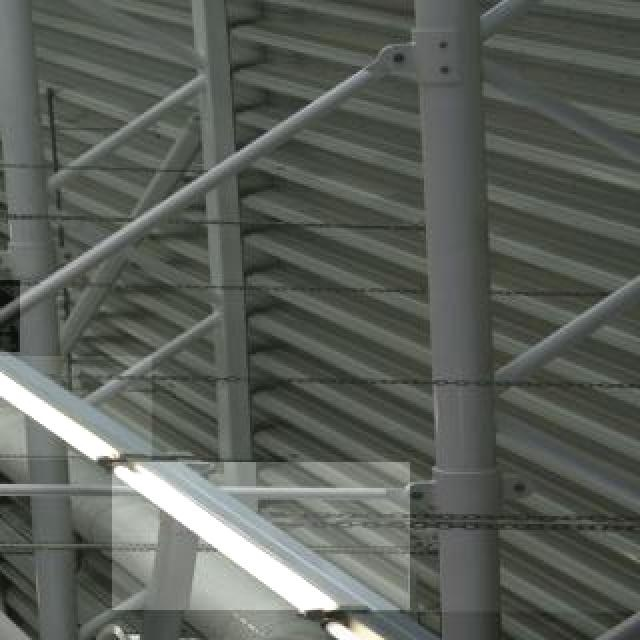fluorescent tube: (106, 455, 338, 629), (0, 348, 136, 482), (318, 610, 640, 640)
